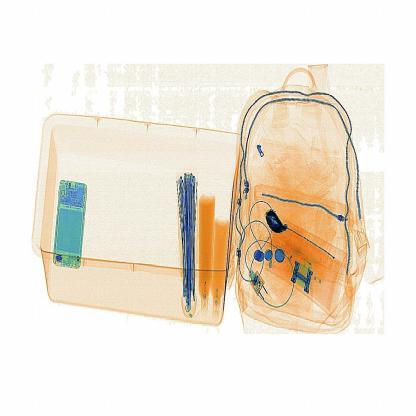scissors: (257, 202, 292, 242)
